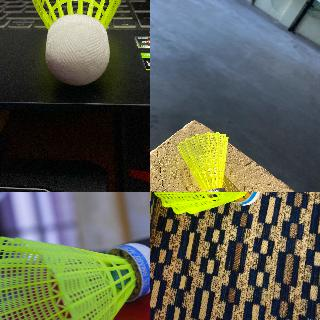shuttlecock: (0, 235, 149, 319), (26, 0, 128, 86), (176, 131, 228, 191), (153, 192, 261, 216)
